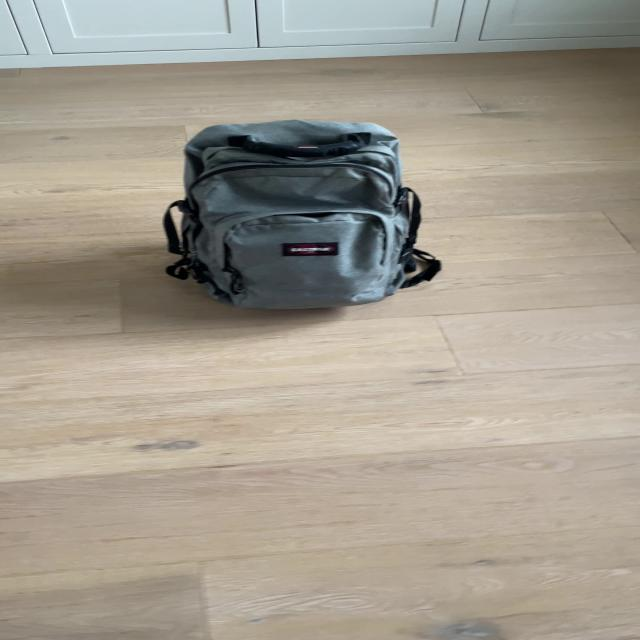backpack: (154, 112, 446, 315)
